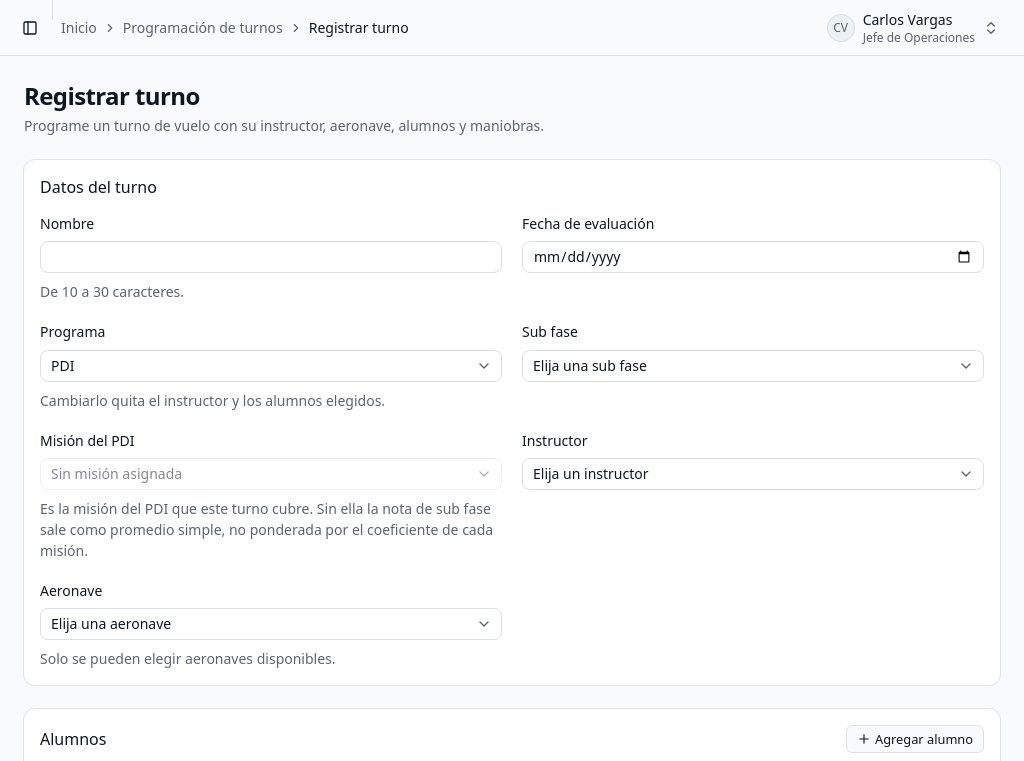
it: Bloqueo por subsanación en el turno práctico › CA-RES-10 quitar al alumno bloqueado vuelve a habilitar Guardar
This screenshot has width=1024, height=761.
Expected: the field labelled "Nombre" is shown, [40,241,502,273]
Click the button "Agregar alumno" at [915, 739], box [846,725,984,753]
(page scrolled)
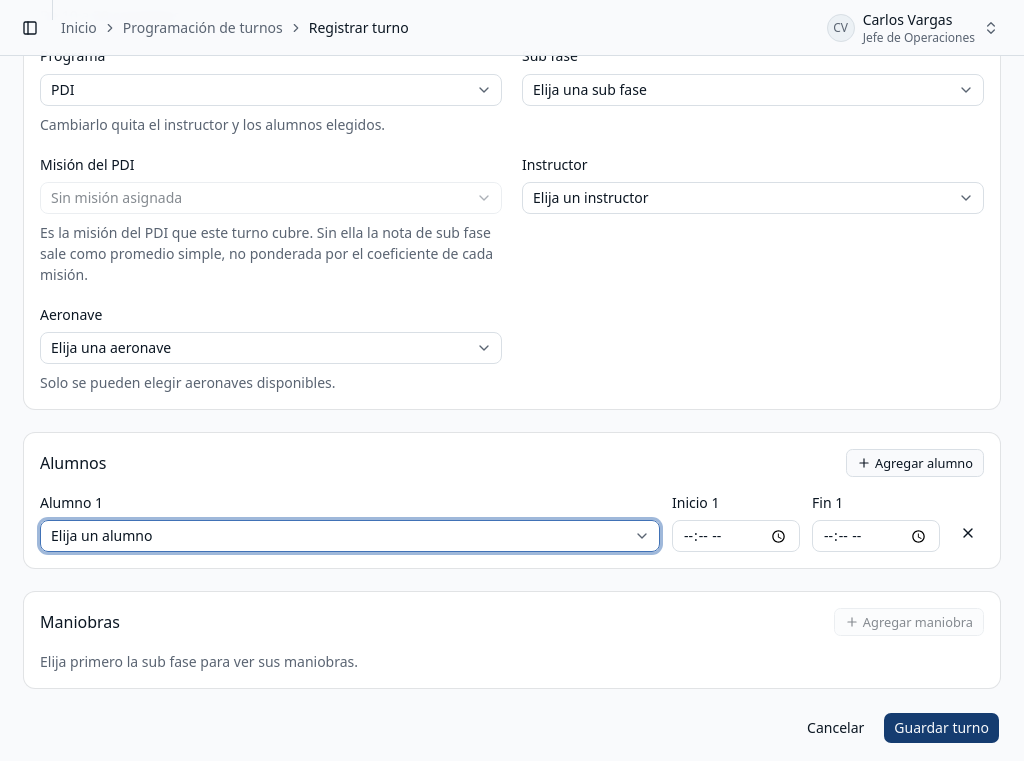
Select "Ana Torres Martinez" in the dropdown labelled "Alumno 1" at [350, 536], box [40,520,660,552]
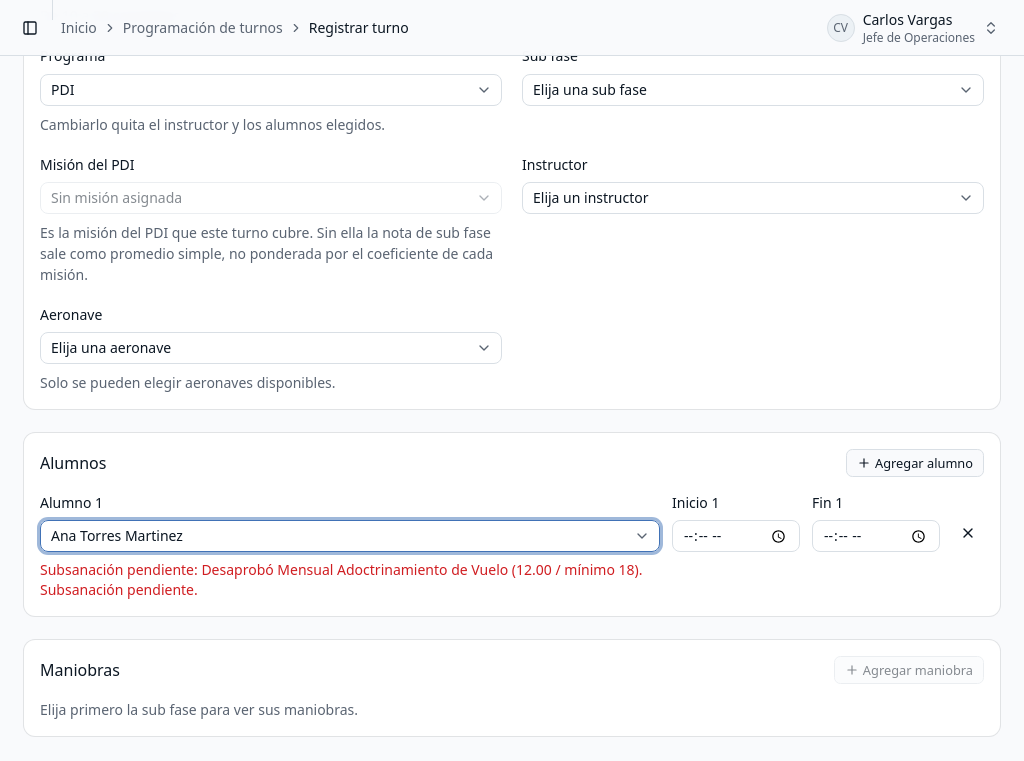
Click the button named "Quitar alumno 1" at [968, 533], box [952,517,984,549]
(page scrolled)
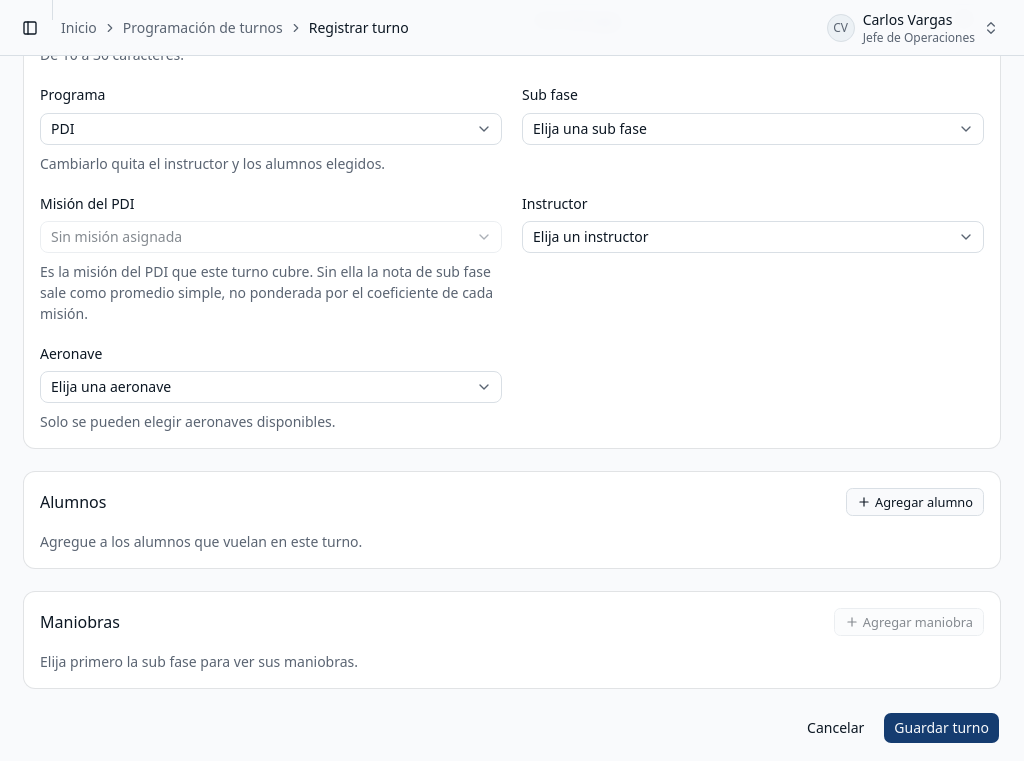
Expected: the button "Guardar turno" is enabled, [883,712,1000,744]
